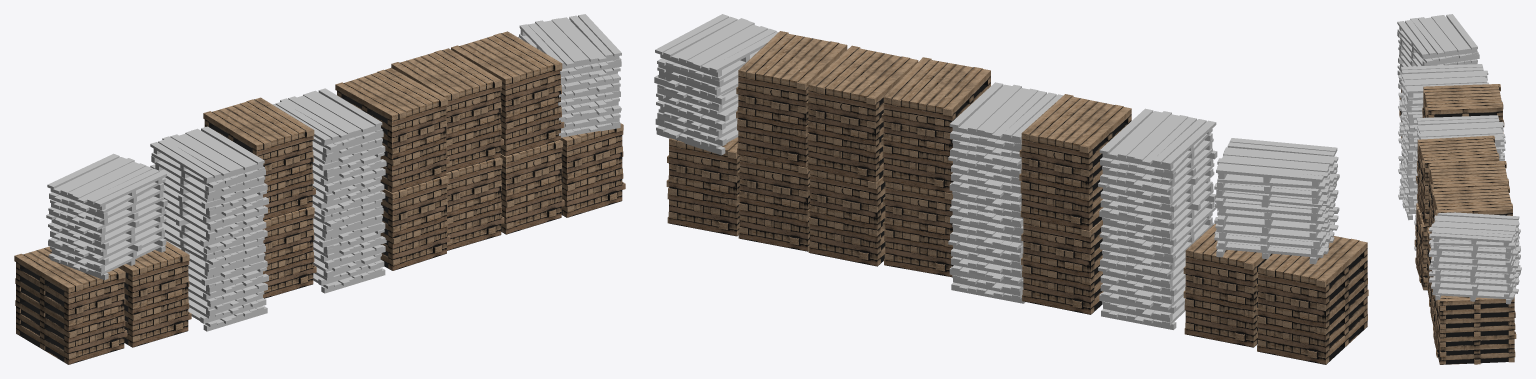
Rendered from Bordstabel_Wall_02_LOD.FBX.
3 views of the same model, side by side, from view 1: azimuth 30°, elevation 25°; view 2: azimuth 150°, elevation 25°; view 3: azimuth 270°, elevation 25° (orthographic). The views are drawn at different scales.
Parts seen in each view (by area): view 1: Bordstabel_Wall_02_LOD0; view 2: Bordstabel_Wall_02_LOD0; view 3: Bordstabel_Wall_02_LOD0.
Boxes of the visible parts, x1,y1,x2,y2 form: Bordstabel_Wall_02_LOD0: [14, 14, 625, 364]; Bordstabel_Wall_02_LOD0: [654, 14, 1368, 364]; Bordstabel_Wall_02_LOD0: [1397, 14, 1521, 364].
Size of what is drawn, in the model's own units: 3007 by 782 by 661.
